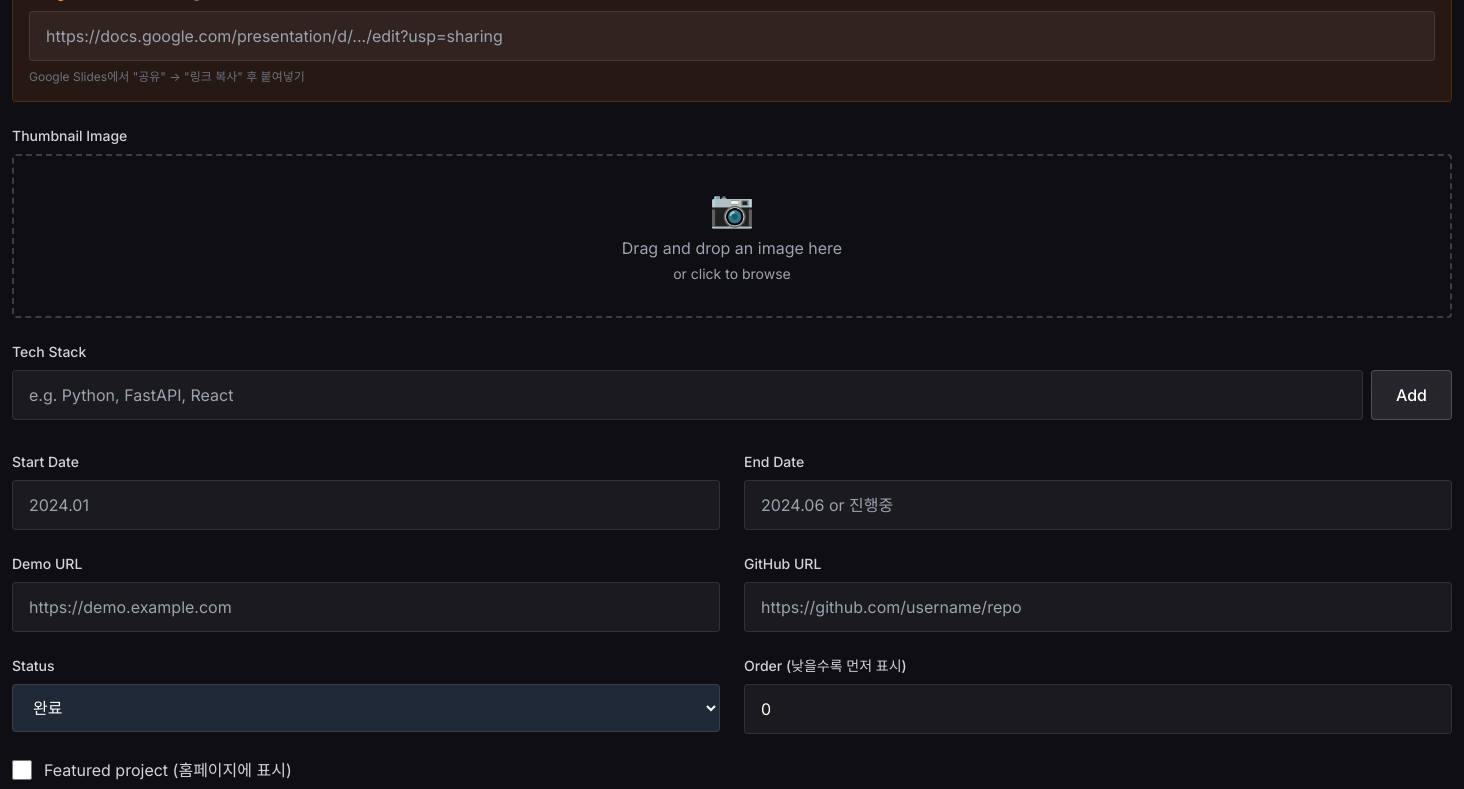
ProjectForm › adds tech stack item when typing and clicking Add
(page scrolled)
In the field with placeholder "e.g. Python, FastAPI, React": (688, 395) [12,370,1363,420], type "Docker"
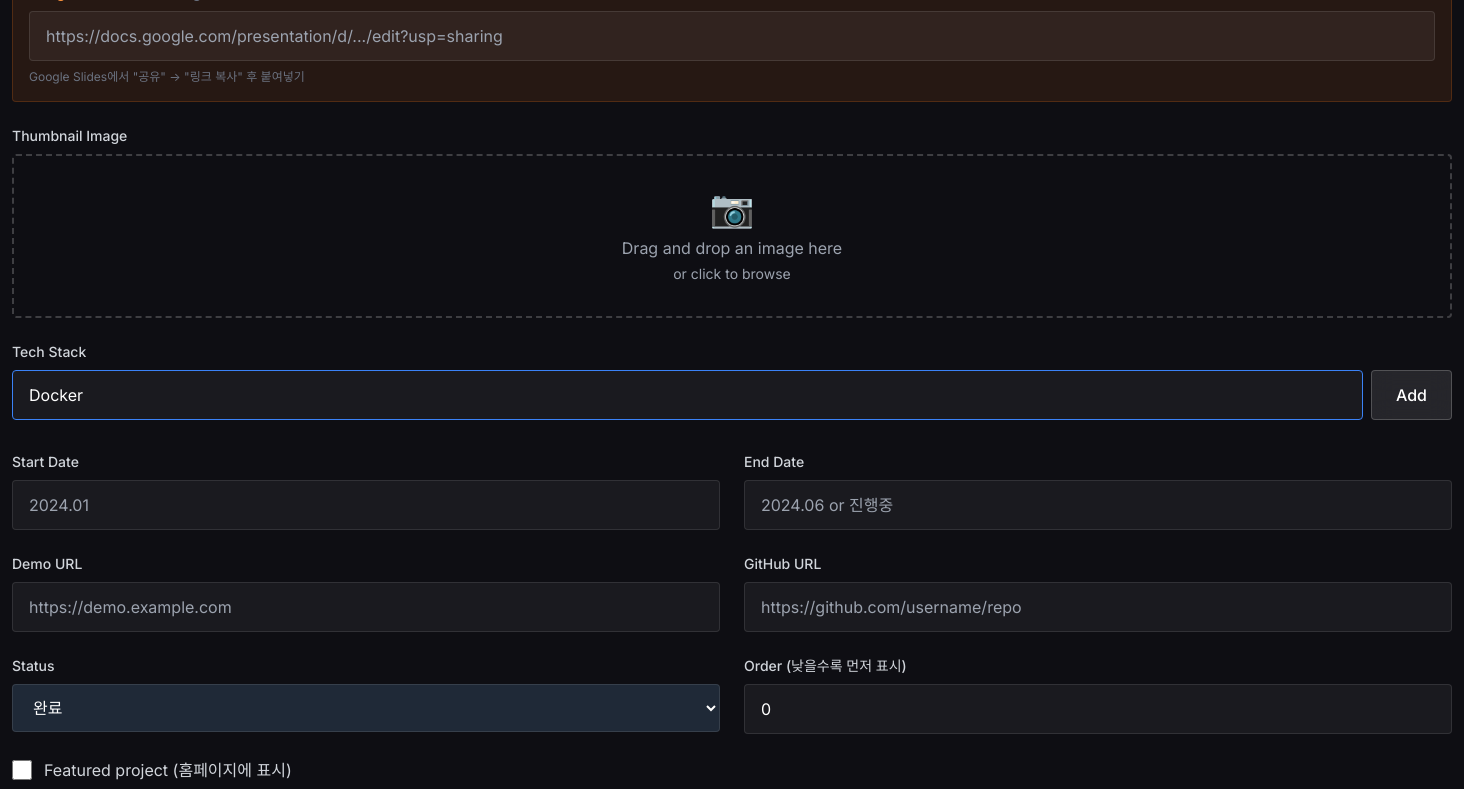
# Tech stack Add button is the second one (team composition Add is first)
Click the button "Add": (1412, 395) [1371,370,1452,420]
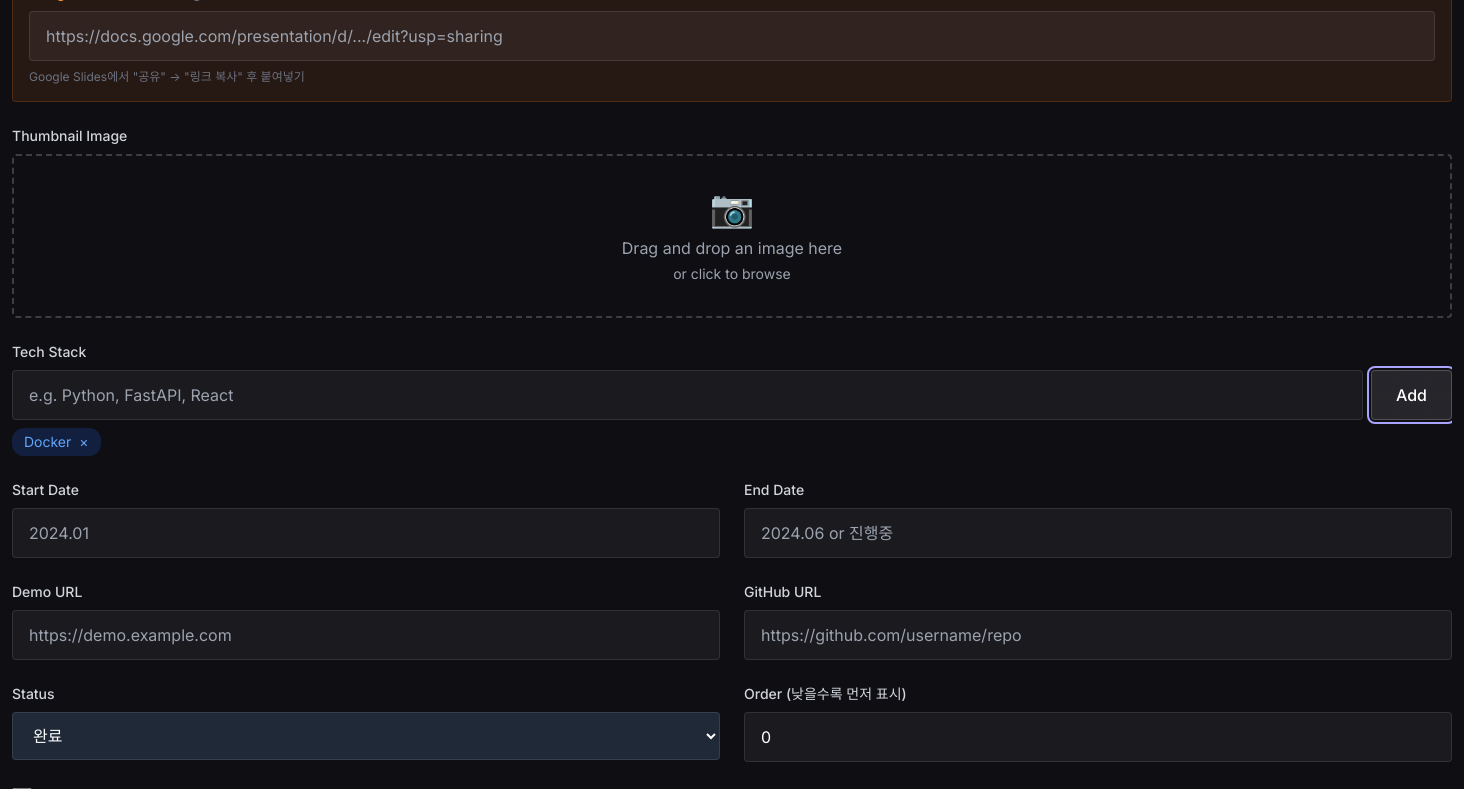
Expected: the text "Docker" is shown, [24,433,71,450]
